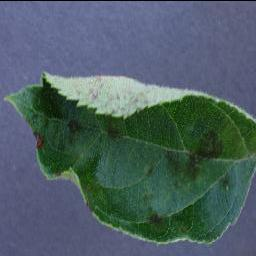apple healthy: (3, 69, 255, 246)
